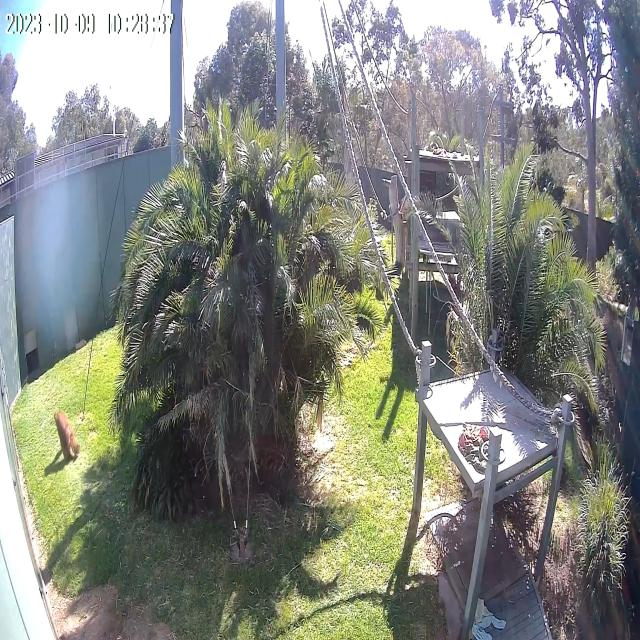orangutan: (53, 409, 82, 467)
